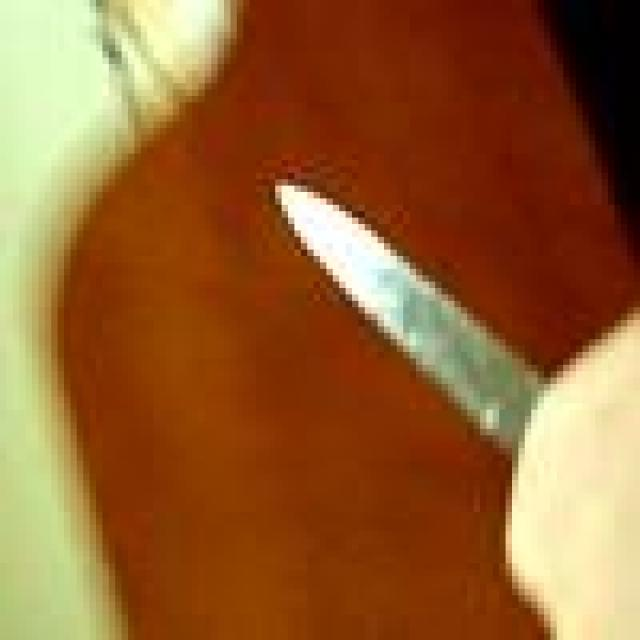knife: (274, 179, 524, 451)
